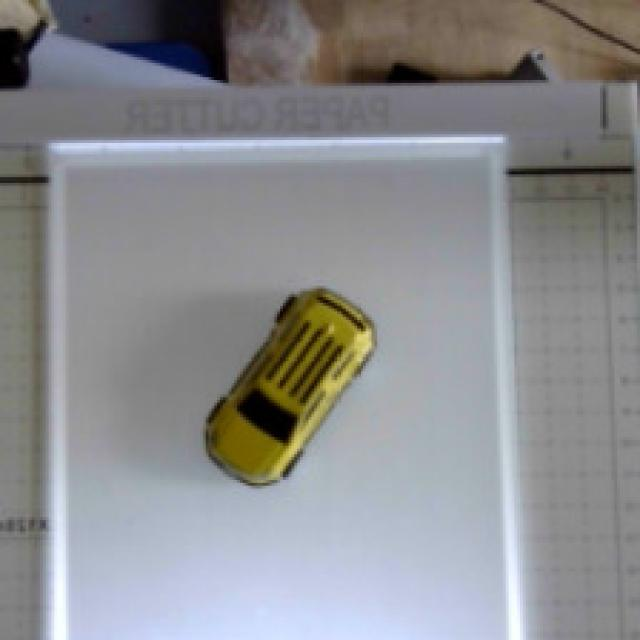Yellow Car: (159, 255, 442, 519)
